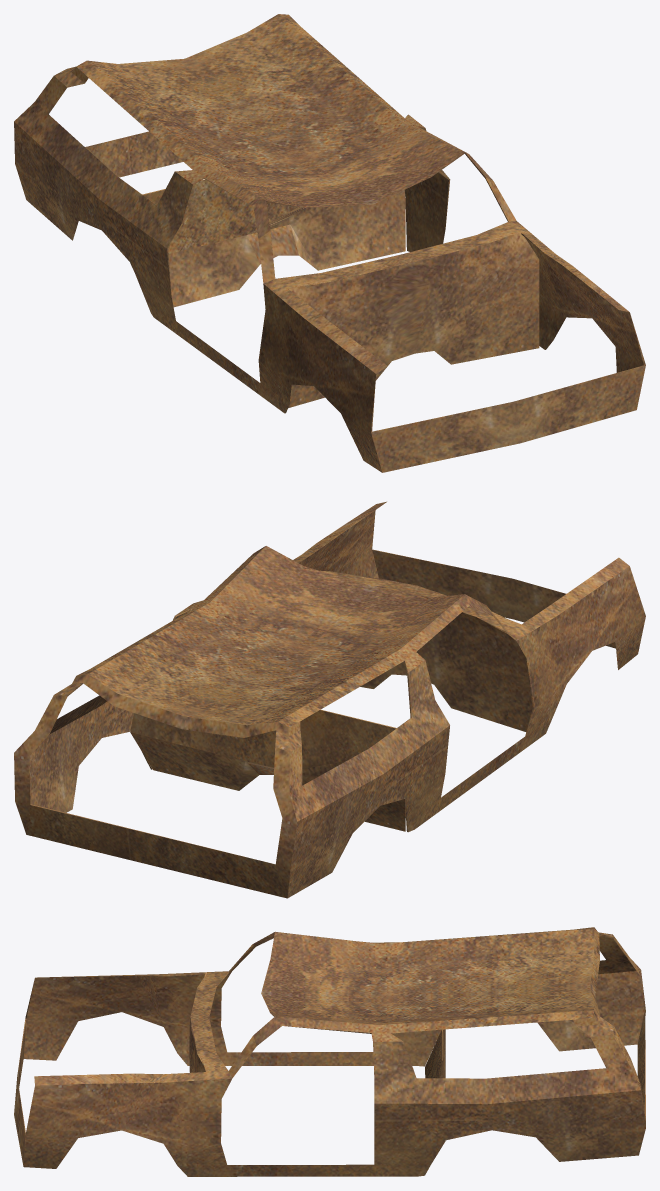
File: old jeep.fbx
3 views of the same model, one above another, from view 1: azimuth 30°, elevation 25°; view 2: azimuth 150°, elevation 25°; view 3: azimuth 270°, elevation 25° (orthographic). The views are drawn at different scales.
Parts seen in each view (by area): view 1: suvRusty2_rustyMaterial_0; view 2: suvRusty2_rustyMaterial_0; view 3: suvRusty2_rustyMaterial_0.
Part boxes in pixels (<box>): suvRusty2_rustyMaterial_0: <box>14,14,645,472</box>; suvRusty2_rustyMaterial_0: <box>14,501,645,898</box>; suvRusty2_rustyMaterial_0: <box>14,927,645,1176</box>.
Bounding box in the file's own units: 224 × 131 × 496.
